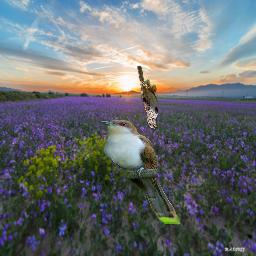Cuckoo: (98, 118, 180, 224)
Sparrow: (138, 66, 159, 130)
